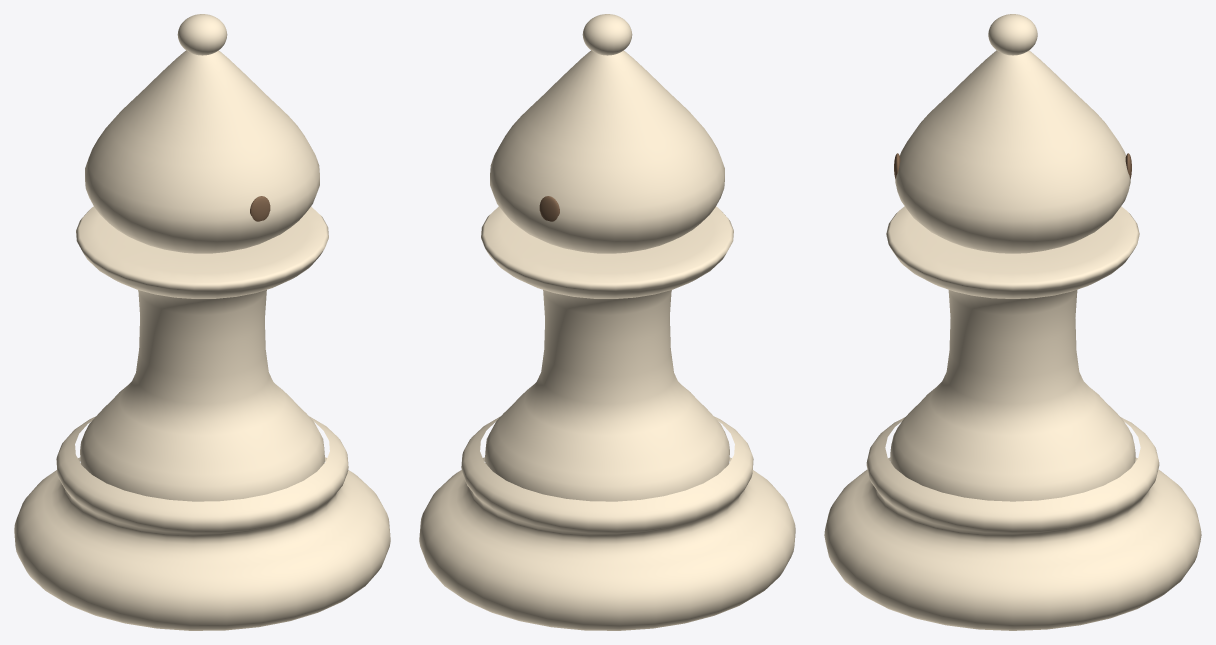
Rendered from bishop.glb.
The picture shows the model from 3 angles, left to right: view 1: azimuth 30°, elevation 25°; view 2: azimuth 150°, elevation 25°; view 3: azimuth 270°, elevation 25°; orthographic projection.
Parts seen in each view (by area): view 1: bishop-ivory-porcelain; view 2: bishop-ivory-porcelain; view 3: bishop-ivory-porcelain.
Part boxes in pixels (x1,y1,x2,y2): bishop-ivory-porcelain: [14, 14, 390, 630]; bishop-ivory-porcelain: [419, 14, 795, 630]; bishop-ivory-porcelain: [824, 14, 1201, 630].
Bounding box in the file's own units: 0.6542 × 1.05 × 0.6542.
